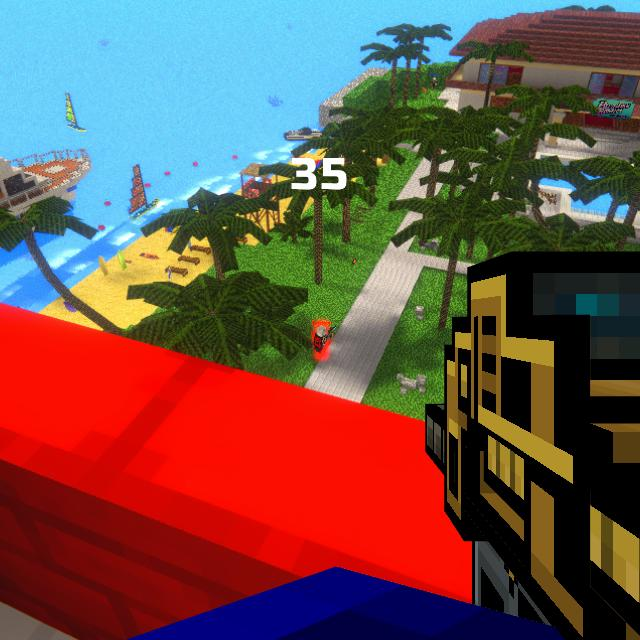Enemy: (314, 326, 332, 354)
